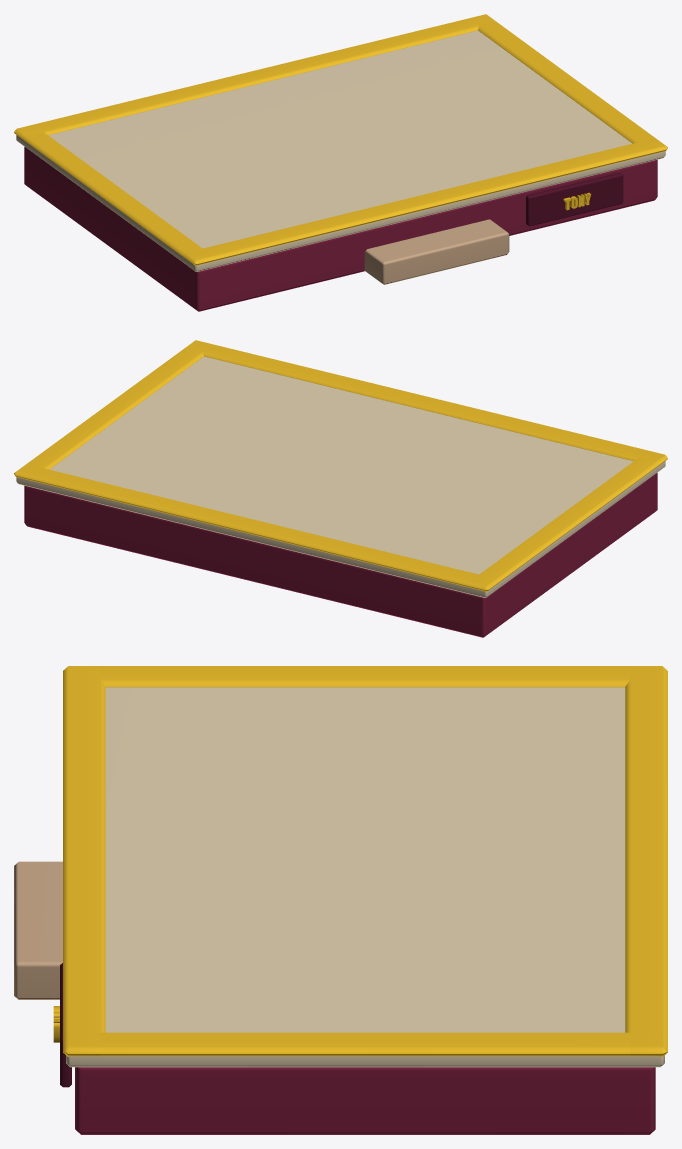
The model's file is gym_stage.glb.
3 renders of one model, top to bottom at view 1: azimuth 30°, elevation 25°; view 2: azimuth 150°, elevation 25°; view 3: azimuth 270°, elevation 25°, orthographic. The views are drawn at different scales.
Visible parts, largest first — view 1: Stage; view 2: Stage; view 3: Stage.
Part boxes in pixels (box(x1,y1,x2,y2)): Stage: box(14, 14, 667, 311); Stage: box(14, 340, 667, 637); Stage: box(14, 666, 667, 1134).
Size of the model in its own units: 2.98 by 0.34 by 2.14.
